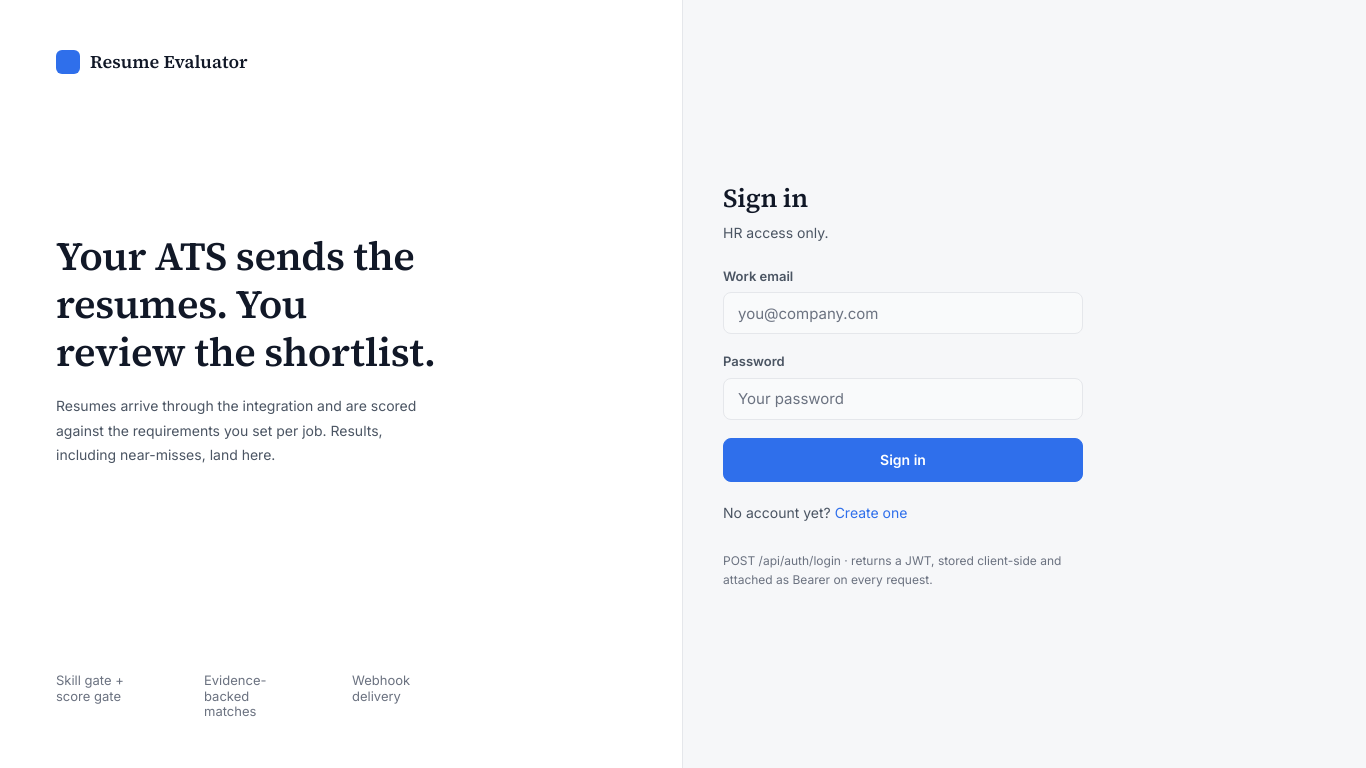
Test case: Phase 6 - Login screen › wrong password or unknown email (401): one message, the same for both
Type "priya@northwind.hr" into the field labelled "Work email".
click(903, 313); type("priya@northwind.hr")  # box [723,292,1083,334]
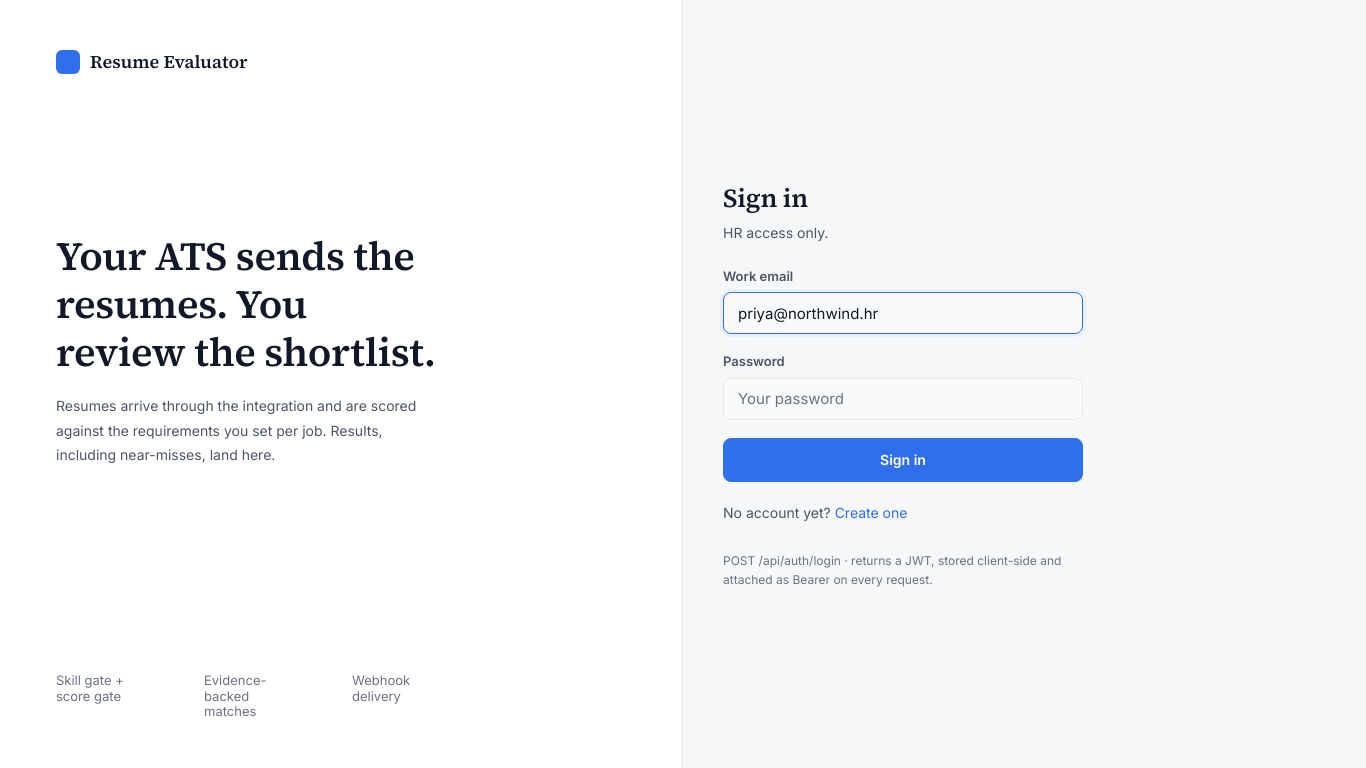
Type "wrong" into the password field labelled "Password".
click(903, 399); type("wrong")  # box [723,378,1083,420]
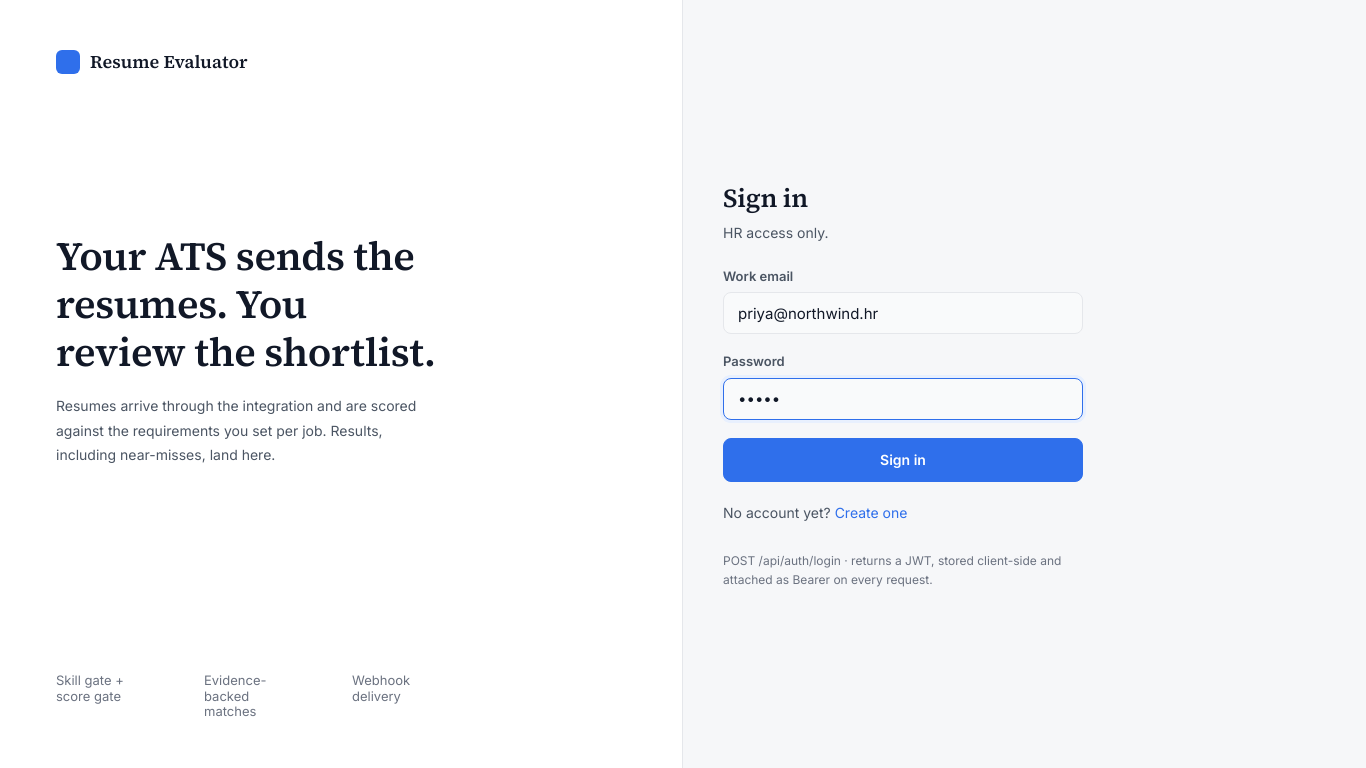
Click the button "Sign in".
click(903, 460)  # box [723,438,1083,482]
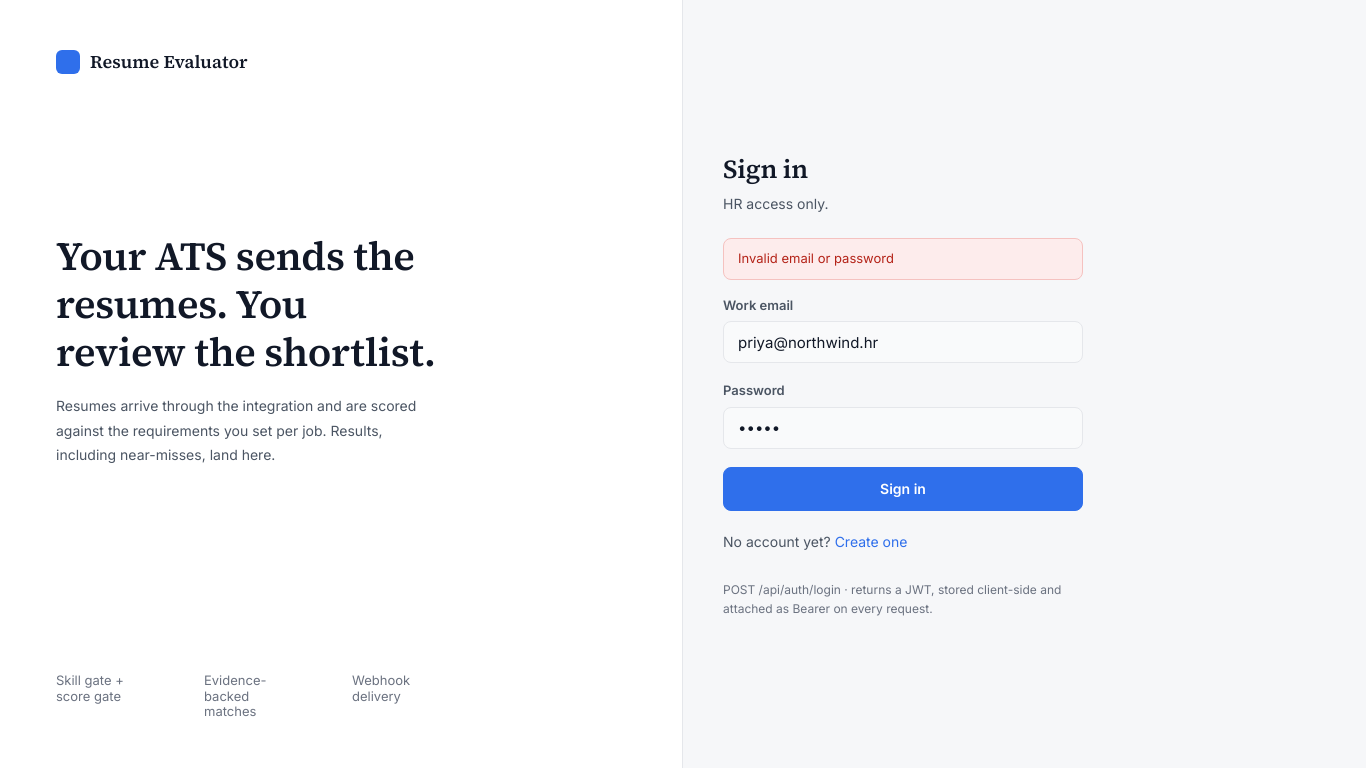
Expected: the message reads "Invalid email or password", [738,250,894,266]
